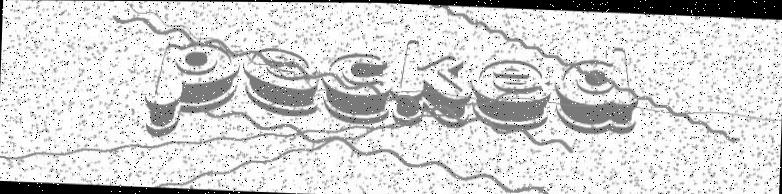c: (319, 46, 395, 126)
d: (554, 42, 645, 137)
e: (470, 54, 556, 134), (237, 43, 322, 113)
k: (394, 35, 475, 129)
p: (140, 35, 242, 137)
